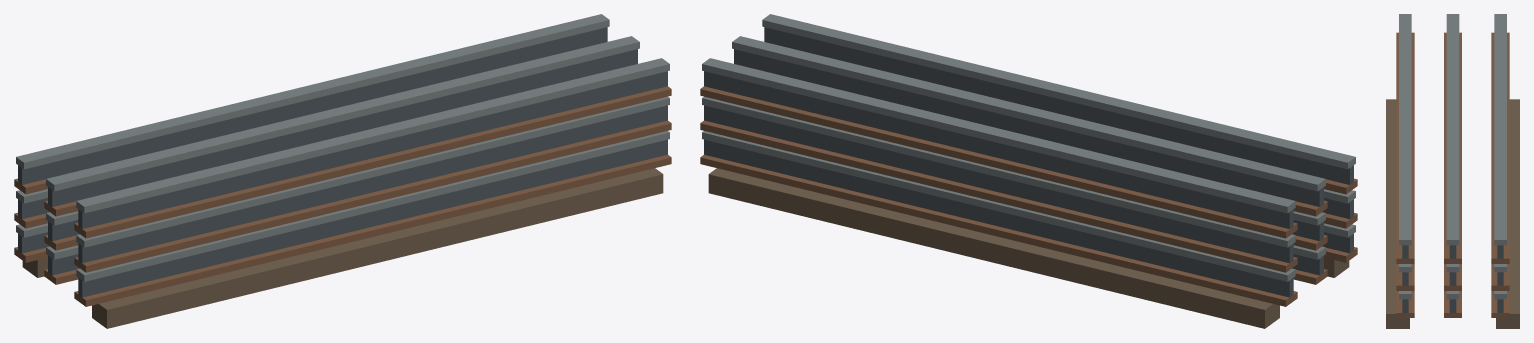
File: rail_stack.glb
The picture shows the model from 3 angles, left to right: view 1: azimuth 30°, elevation 25°; view 2: azimuth 150°, elevation 25°; view 3: azimuth 270°, elevation 25°; orthographic projection. The views are drawn at different scales.
Parts seen in each view (by area): view 1: rail_stack; view 2: rail_stack; view 3: rail_stack.
Part boxes in pixels (left/top/right/bottom): rail_stack: left=14, top=14, right=671, bottom=328; rail_stack: left=700, top=14, right=1357, bottom=328; rail_stack: left=1386, top=14, right=1519, bottom=328.
Bounding box in the file's own units: 3.84 × 0.75 × 0.96.
